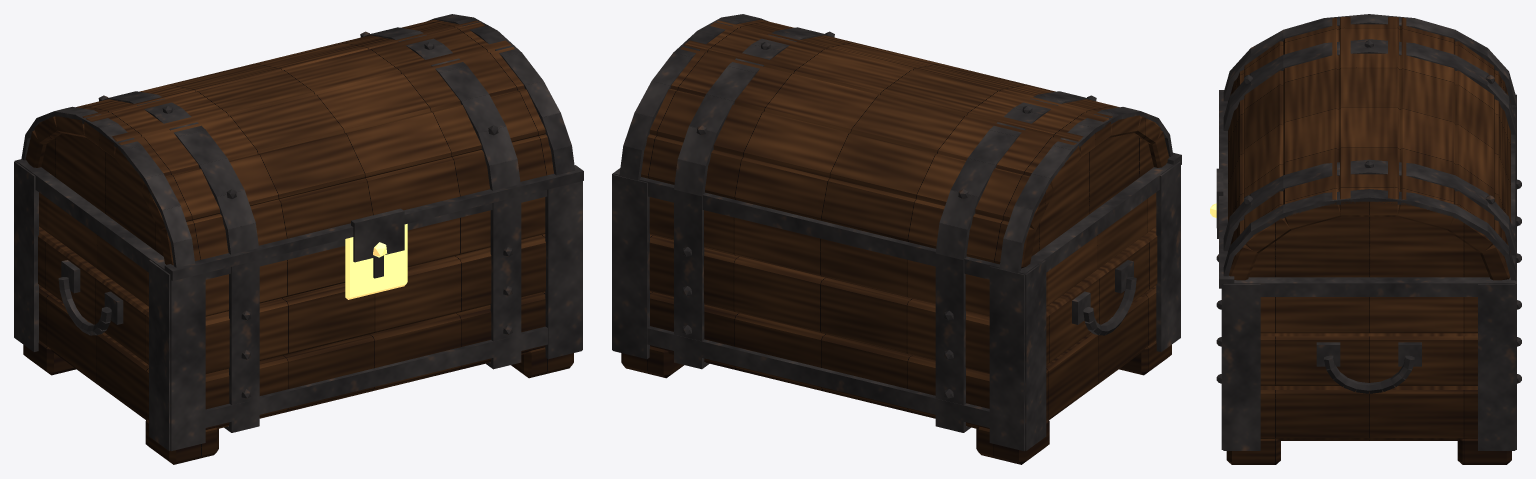
The model's file is chest.glb.
3 renders of one model, left to right at view 1: azimuth 30°, elevation 25°; view 2: azimuth 150°, elevation 25°; view 3: azimuth 270°, elevation 25°, orthographic. The views are drawn at different scales.
Parts seen in each view (by area): view 1: chest_base, chest_lid; view 2: chest_base, chest_lid; view 3: chest_lid, chest_base.
Part boxes in pixels (x1,y1,x2,y2): chest_base: (14, 159, 582, 464); chest_lid: (21, 14, 583, 280); chest_base: (612, 161, 1180, 464); chest_lid: (619, 14, 1181, 273); chest_lid: (1216, 14, 1516, 288); chest_base: (1210, 94, 1521, 464).
Size of the model in its own units: 1.4 by 0.8888 by 0.9189.
Materials: 4 (2 with a texture image).
